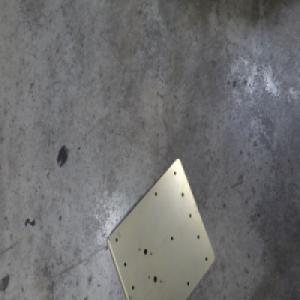MetalSheet: (105, 154, 216, 300)
